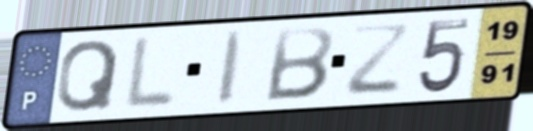5: (414, 16, 474, 94)
B: (260, 24, 337, 103)
I: (214, 27, 250, 107)
L: (120, 33, 180, 113)
Q: (53, 38, 123, 115)
Z: (341, 23, 414, 99)
